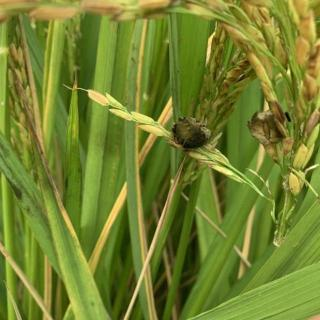Gosong-Palsu: (246, 108, 287, 148), (172, 115, 212, 151)
